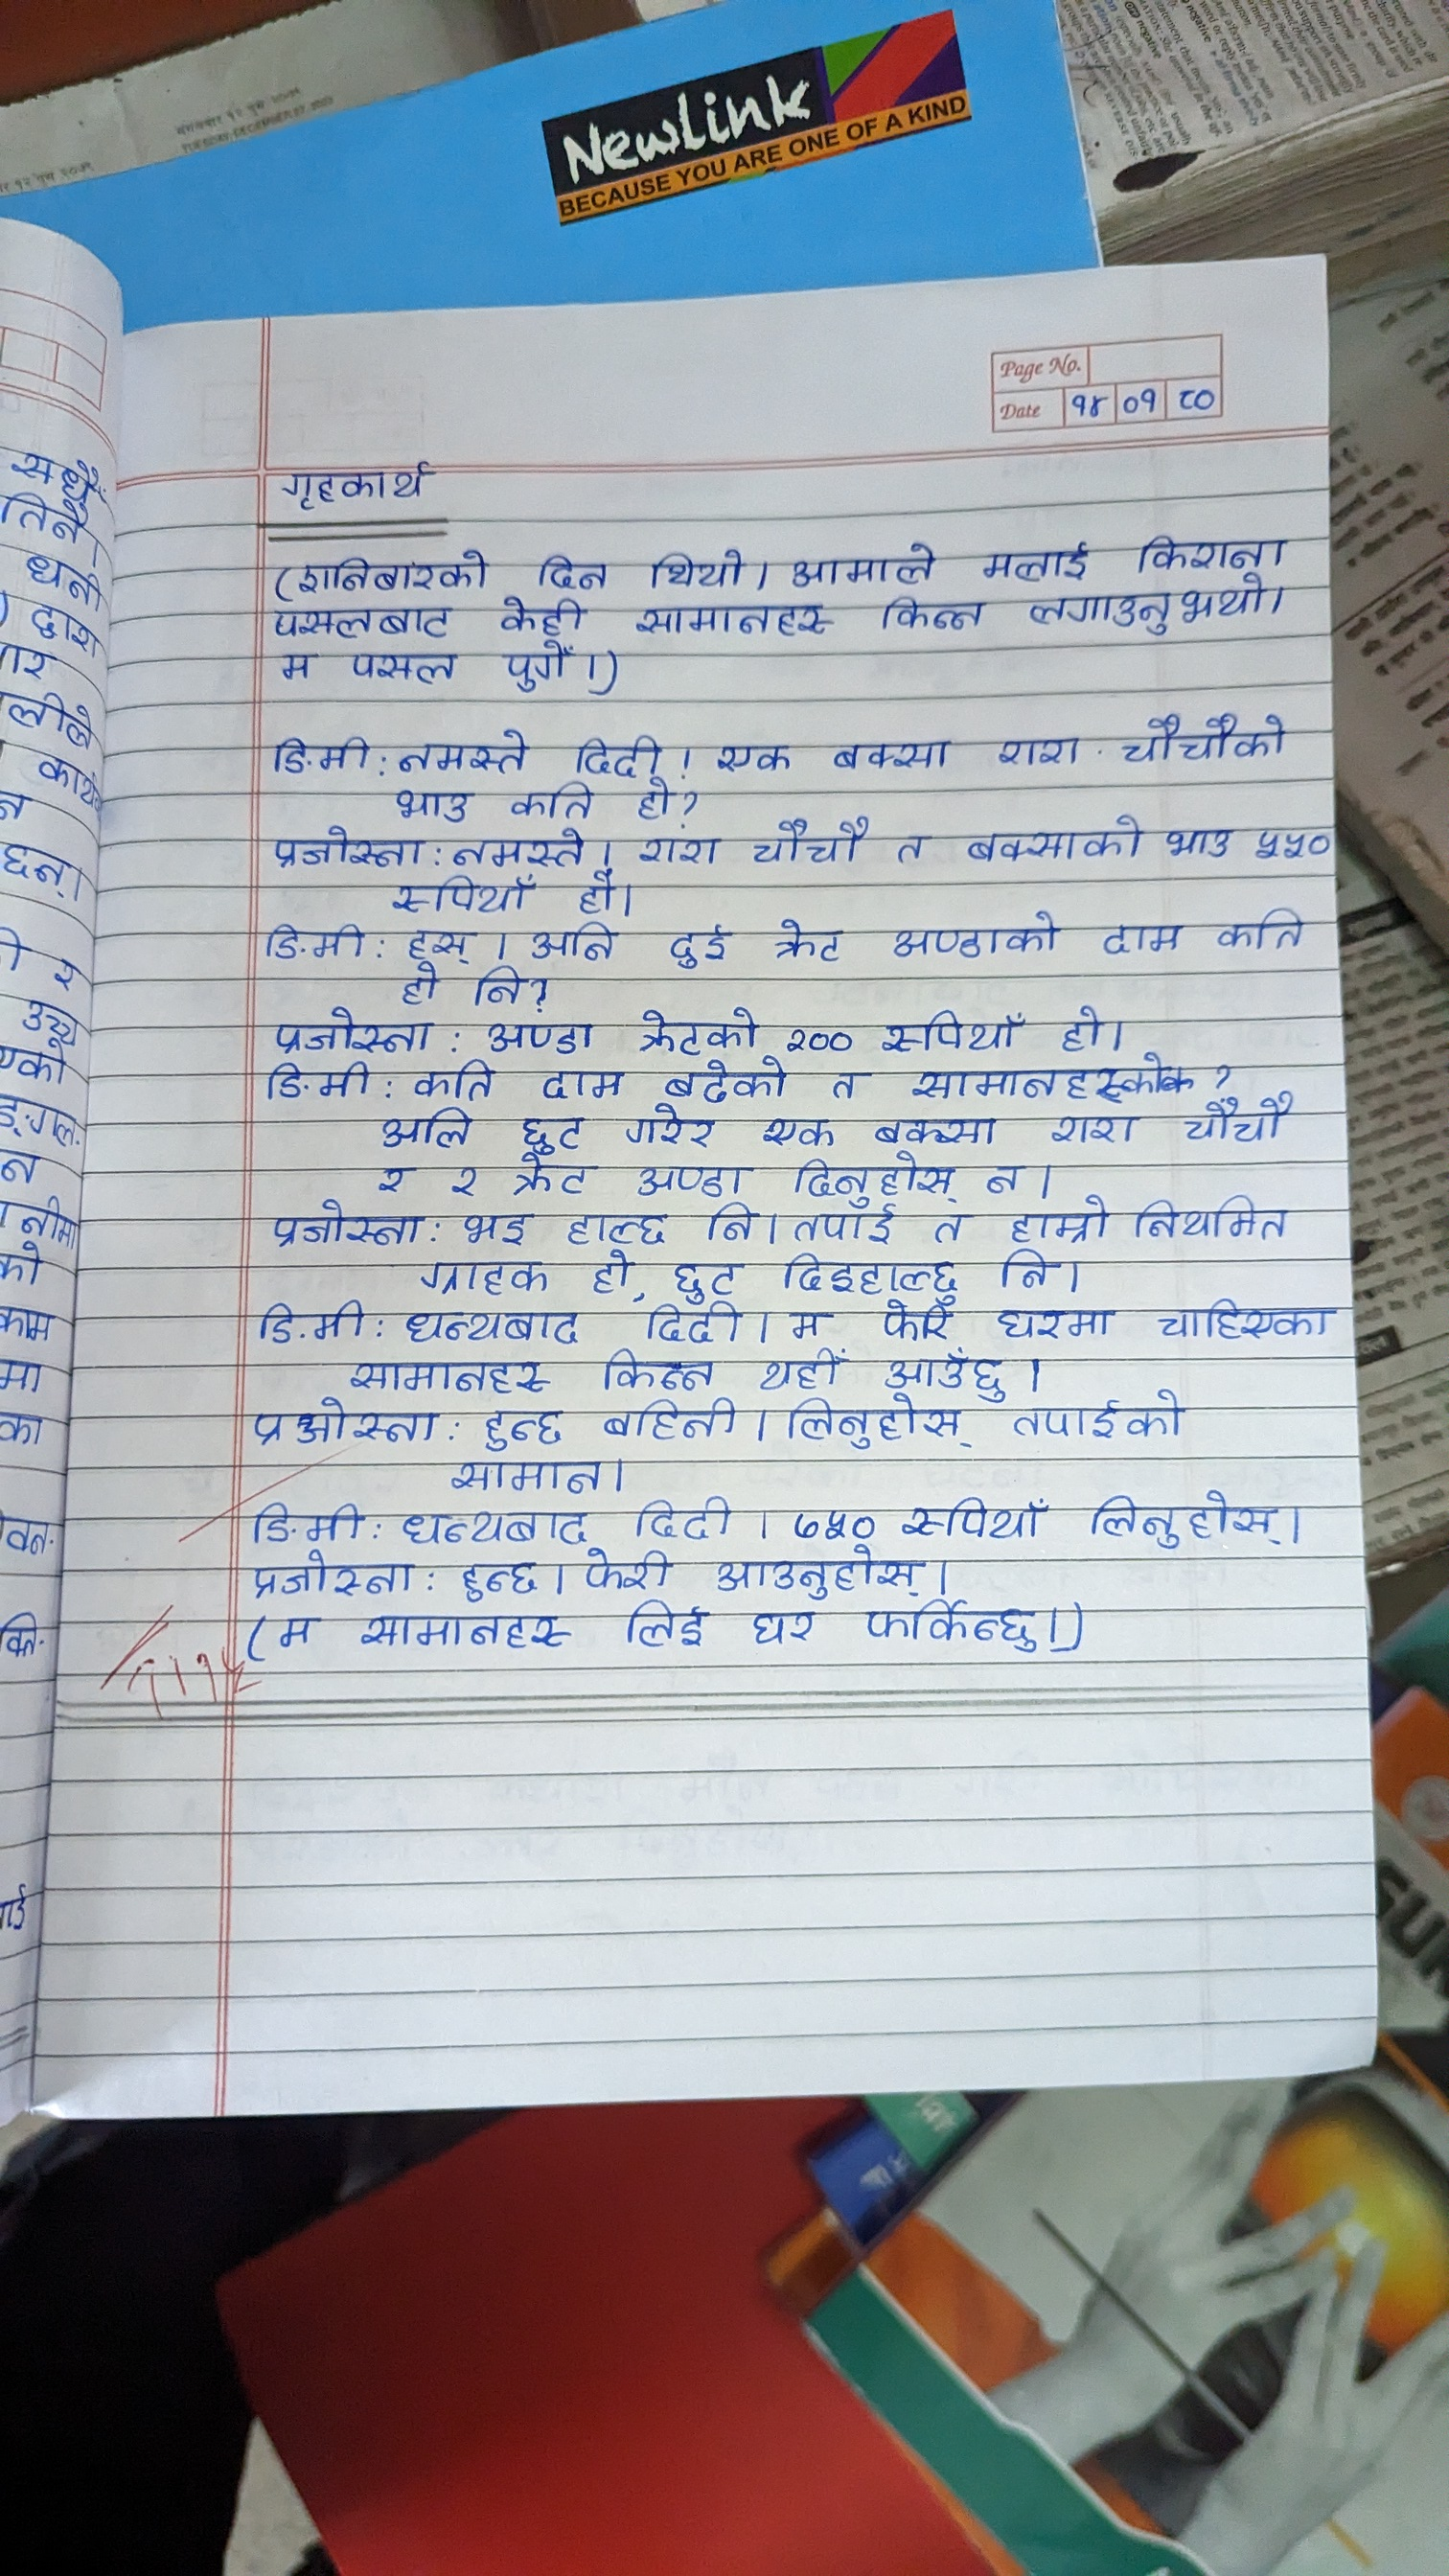text: (1083, 1477, 1286, 1550), (1031, 589, 1279, 642), (784, 1398, 984, 1454), (920, 1060, 1201, 1099), (269, 442, 435, 508), (1123, 1191, 1309, 1249), (357, 1612, 568, 1663), (856, 1603, 1049, 1658), (955, 817, 1143, 870), (239, 1399, 439, 1447), (885, 908, 1063, 961), (1157, 1293, 1339, 1345), (290, 545, 492, 591), (400, 1504, 598, 1550), (711, 1550, 924, 1592), (1111, 711, 1290, 761), (793, 1155, 959, 1207), (1010, 1394, 1198, 1438), (345, 1353, 557, 1392), (904, 1488, 1049, 1545), (396, 1306, 589, 1348), (237, 1553, 418, 1598), (784, 540, 932, 591), (255, 1010, 433, 1053), (874, 1005, 1026, 1054), (262, 1207, 419, 1253), (777, 1256, 961, 1295), (444, 1456, 603, 1499), (632, 605, 832, 639), (393, 725, 524, 777), (750, 812, 865, 870), (594, 1396, 740, 1442), (628, 1005, 757, 1054), (1125, 533, 1288, 571), (271, 826, 419, 869), (244, 1293, 370, 1343), (265, 605, 449, 639), (257, 1062, 379, 1111), (448, 826, 584, 870), (626, 1491, 738, 1545), (377, 876, 538, 911), (244, 1502, 368, 1548), (662, 1060, 787, 1104), (978, 540, 1099, 586), (271, 725, 370, 780), (619, 1605, 729, 1652), (883, 1352, 1003, 1394), (265, 916, 372, 964), (414, 1260, 556, 1295), (1210, 906, 1307, 957), (382, 1108, 490, 1154), (1182, 1102, 1290, 1148), (602, 1352, 718, 1394), (472, 1401, 570, 1451), (777, 1500, 890, 1543), (619, 1106, 725, 1150), (832, 734, 948, 773), (640, 547, 747, 589), (561, 1208, 679, 1246), (1244, 810, 1329, 862), (1008, 1203, 1109, 1246), (582, 1552, 683, 1594), (752, 1348, 855, 1389), (527, 1062, 626, 1102), (642, 1306, 741, 1346), (771, 913, 842, 970), (994, 1307, 1120, 1339), (883, 594, 977, 637), (456, 1557, 545, 1601), (343, 651, 465, 683), (563, 738, 662, 777), (794, 1208, 893, 1247), (522, 922, 616, 962), (410, 1056, 499, 1099), (667, 913, 729, 973), (1095, 915, 1180, 957), (633, 1164, 747, 1196), (879, 1299, 961, 1343), (1049, 996, 1109, 1054), (1157, 821, 1233, 867), (870, 1118, 1001, 1145), (994, 1249, 1060, 1302), (513, 782, 598, 823), (662, 1256, 741, 1299), (534, 548, 607, 594), (741, 1606, 823, 1647), (499, 600, 584, 639), (485, 1021, 602, 1049), (702, 738, 791, 775), (504, 644, 568, 695), (1044, 1113, 1139, 1146), (398, 925, 479, 964), (515, 1111, 587, 1152), (632, 833, 722, 865), (395, 787, 471, 824), (782, 1014, 858, 1051), (513, 1157, 586, 1194), (582, 1249, 635, 1299), (996, 738, 1083, 768), (462, 1212, 527, 1251), (757, 1120, 837, 1148), (467, 968, 522, 1007), (372, 1161, 419, 1203), (706, 1207, 757, 1246), (395, 964, 441, 1007), (985, 1159, 1033, 1198), (566, 876, 616, 913), (819, 1069, 870, 1104), (633, 782, 676, 823), (271, 1608, 308, 1654), (888, 821, 924, 869), (931, 1214, 980, 1247), (278, 651, 322, 686), (448, 1159, 483, 1203), (784, 1307, 828, 1339)
